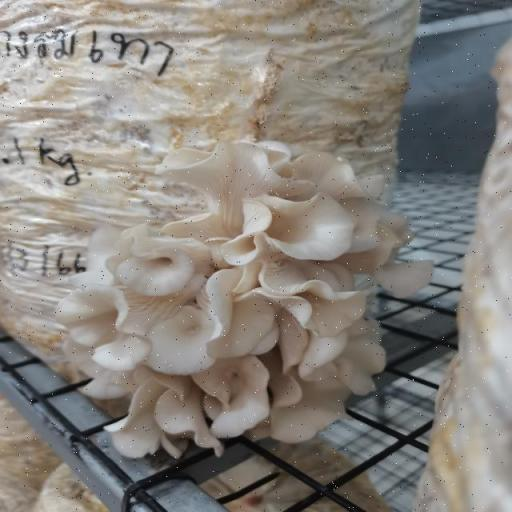White Oyster Mushroom: (55, 130, 434, 463)
